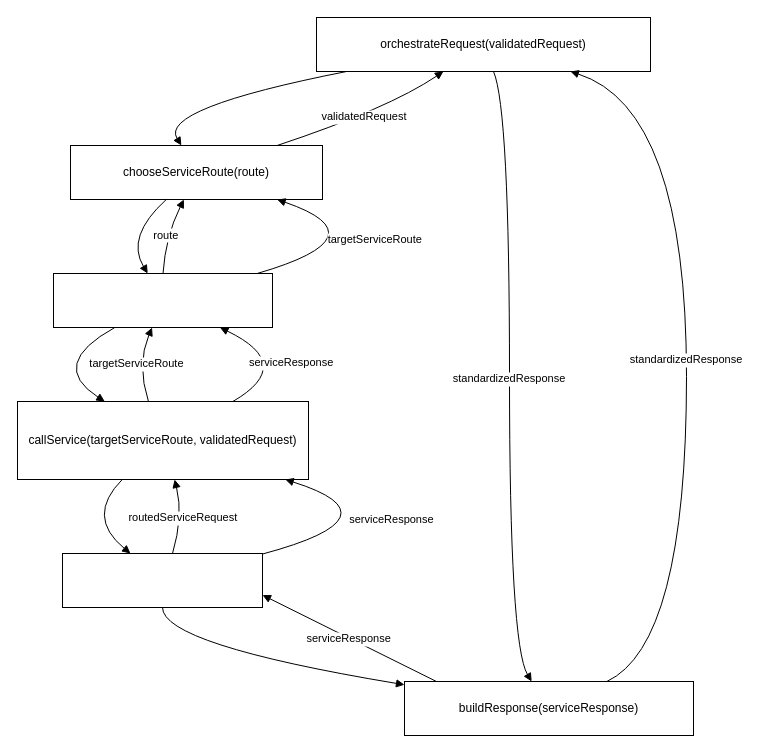
This 761x753 diagram has some shape labels left out. Here are the shapes that lost their labels. From the top down, the box of each, then its label:
(52, 272, 272, 328): Service Route Registry
(62, 552, 262, 608): Core Services Layer
